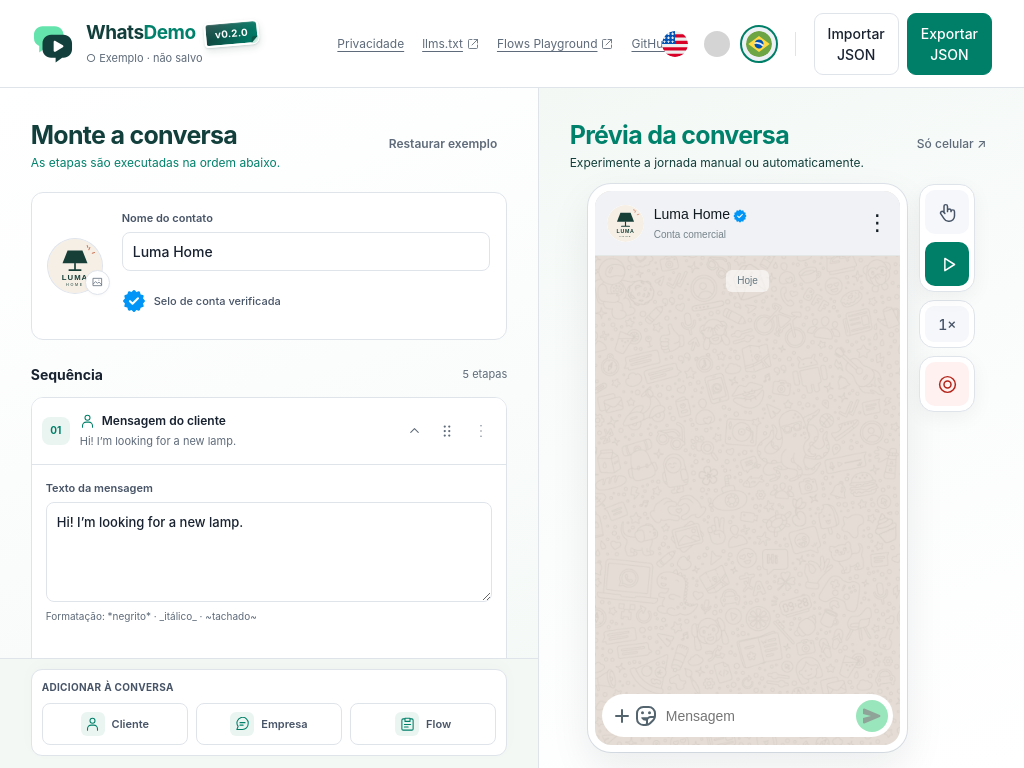
reports a failed write visibly, keeps the edits, and clears the warning after a successful save
This screenshot has width=1024, height=768.
Step 1. Replace the text in the field labelled "Nome do contato" with "Alteração preservada" → (306,252), box [122, 232, 490, 271]
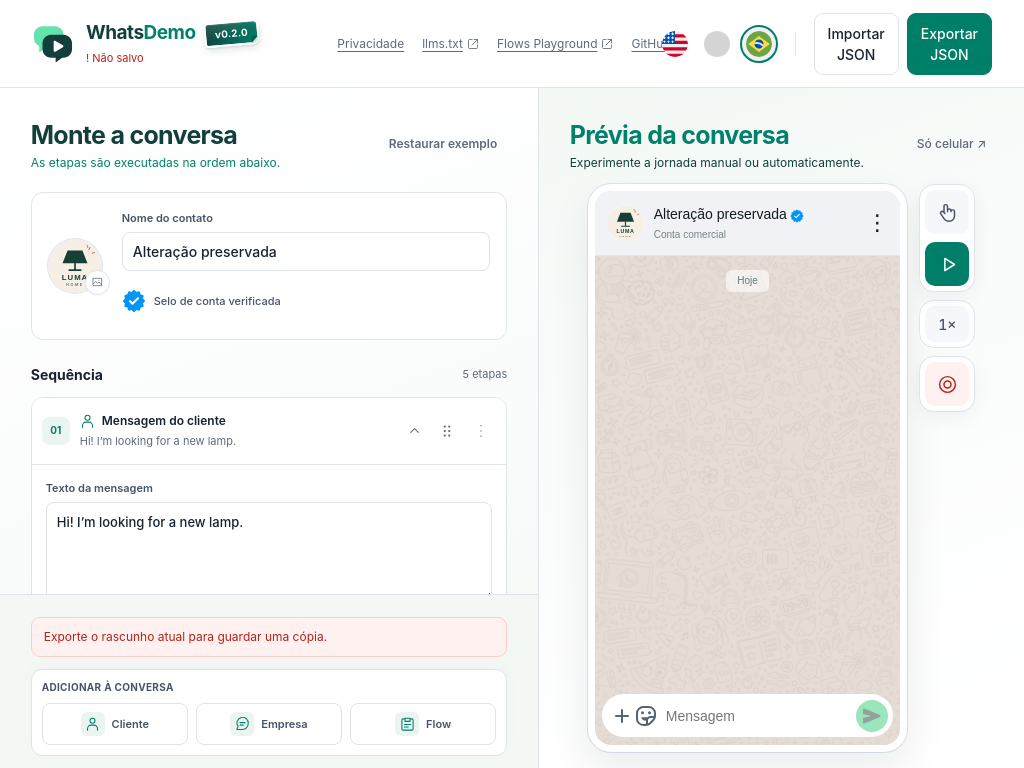
Check: the message "Exporte o rascunho atual para guardar uma cópia." is shown, box [31, 617, 507, 657]
Step 2. Replace the text in the field labelled "Nome do contato" with "Agora salvo" → (306,252), box [122, 232, 490, 271]
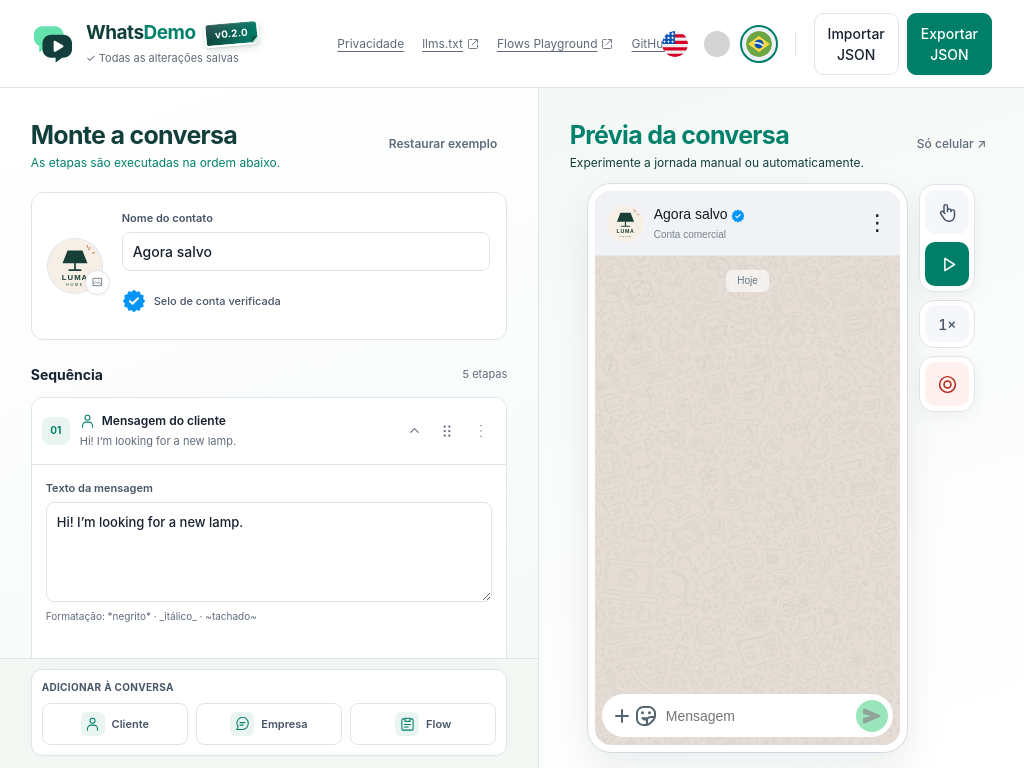
Check: the message "Exporte o rascunho atual para guardar uma cópia." is gone
